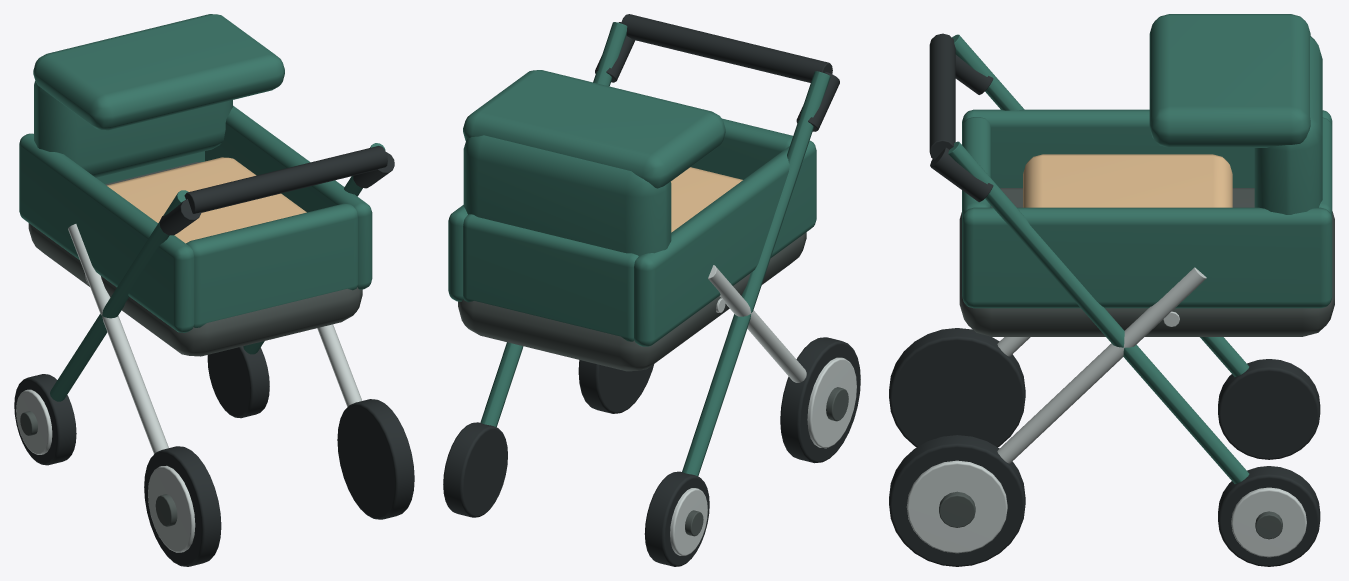
The model's file is barnvagn.glb.
3 views of the same model, side by side, from view 1: azimuth 30°, elevation 25°; view 2: azimuth 150°, elevation 25°; view 3: azimuth 270°, elevation 25° (orthographic). The views are drawn at different scales.
Parts seen in each view (by area): view 1: Canopy visor, Cot side, Cot end, Canopy back, Carrycot base, Tyre.002, Blanket, Cot side.001, Frame tube.007, Tyre, Tyre.003, Frame tube.001 (+9 smaller); view 2: Canopy visor, Canopy back, Cot side, Cot end.001, Carrycot base, Frame tube, Frame tube.007, Tyre.003, Tyre, Cot end, Tyre.001, Wheel dish (+9 smaller); view 3: Cot side.001, Canopy visor, Tyre, Blanket, Cot side, Carrycot base, Tyre.001, Frame tube.003, Tyre.002, Wheel dish.002, Canopy back, Frame tube.004 (+10 smaller).
Boxes of the visible parts, x1,y1,x2,y2 form: Canopy visor: [33, 14, 284, 130]; Cot side: [19, 133, 194, 332]; Cot end: [186, 203, 357, 327]; Canopy back: [34, 81, 232, 177]; Carrycot base: [28, 162, 362, 356]; Tyre.002: [337, 399, 414, 519]; Blanket: [107, 157, 306, 243]; Cot side.001: [205, 105, 372, 289]; Frame tube.007: [184, 146, 387, 213]; Tyre: [144, 446, 221, 566]; Tyre.003: [207, 346, 269, 418]; Frame tube.001: [68, 224, 168, 453]; Canopy visor: [463, 70, 725, 188]; Canopy back: [463, 135, 671, 255]; Cot side: [634, 140, 816, 346]; Cot end.001: [463, 214, 638, 341]; Carrycot base: [458, 232, 806, 371]; Frame tube: [682, 71, 830, 476]; Frame tube.007: [621, 14, 832, 82]; Tyre.003: [443, 422, 507, 517]; Tyre: [780, 337, 860, 463]; Cot end: [691, 118, 792, 179]; Tyre.001: [644, 471, 709, 566]; Wheel dish: [807, 357, 856, 448]; Cot side.001: [962, 207, 1332, 308]; Canopy visor: [1149, 14, 1310, 147]; Tyre: [889, 328, 1025, 447]; Blanket: [1023, 154, 1232, 207]; Cot side: [962, 109, 1332, 187]; Carrycot base: [959, 188, 1334, 336]; Tyre.001: [1218, 359, 1320, 459]; Frame tube.003: [948, 141, 1249, 483]; Tyre.002: [889, 435, 1025, 566]; Wheel dish.002: [906, 460, 1007, 553]; Canopy back: [1254, 36, 1322, 214]; Frame tube.004: [997, 267, 1206, 463].
Bounding box in the file's own units: 0.625 × 1.02 × 0.915.
